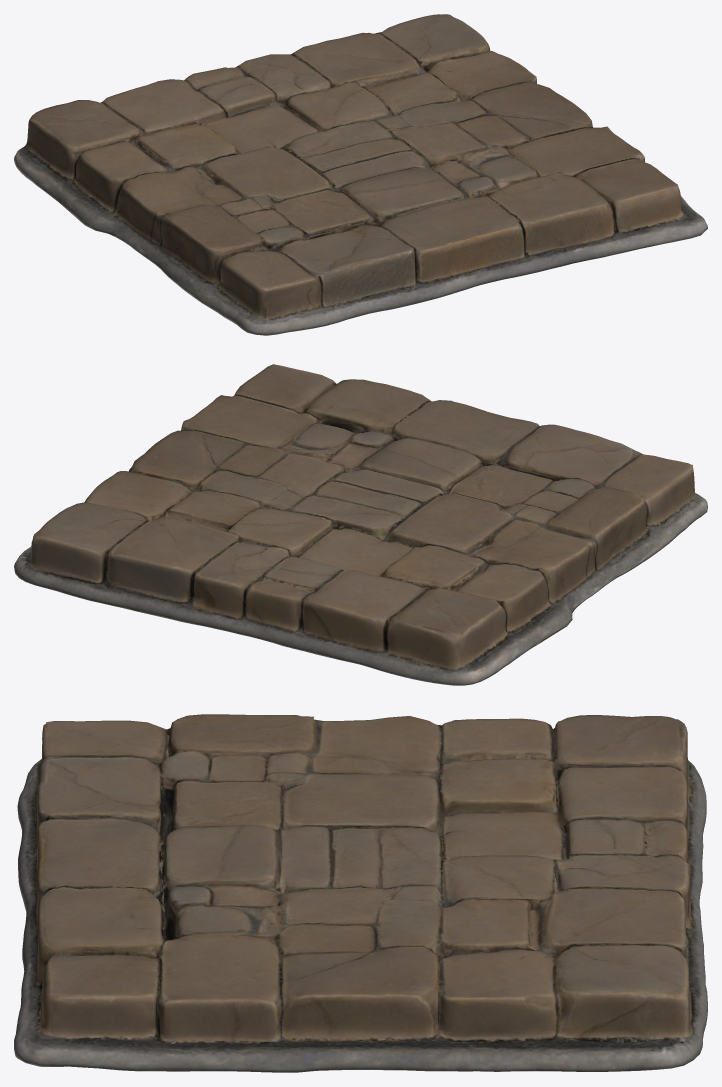
File: Meshy_AI_Cobblestone_Pathway_0217162825_texture.glb
3 views of the same model, one above another, from view 1: azimuth 30°, elevation 25°; view 2: azimuth 150°, elevation 25°; view 3: azimuth 270°, elevation 25° (orthographic). The views are drawn at different scales.
Parts seen in each view (by area): view 1: Mesh0; view 2: Mesh0; view 3: Mesh0.
Boxes of the visible parts, bbox=[...] form: Mesh0: bbox=[14, 14, 707, 335]; Mesh0: bbox=[14, 364, 707, 685]; Mesh0: bbox=[14, 714, 707, 1072].
Bounding box in the file's own units: 1.9 × 0.1817 × 1.78.
1 material, 1 textured.
